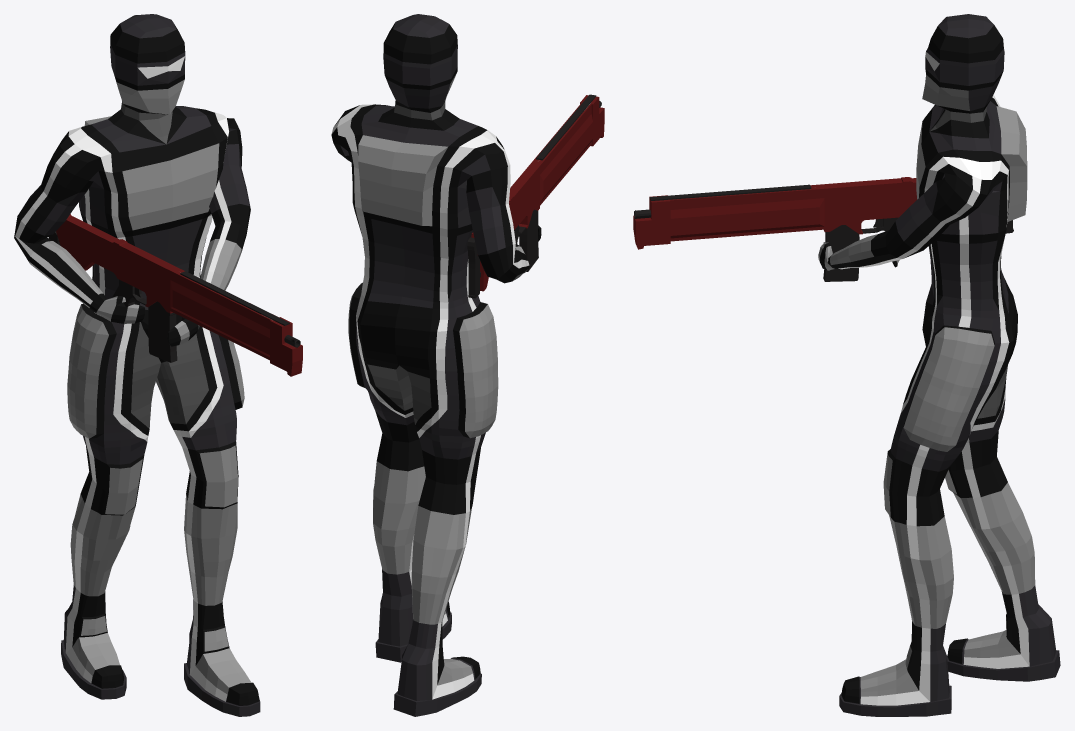
The model's file is MCI4.obj.
The picture shows the model from 3 angles, left to right: view 1: azimuth 30°, elevation 25°; view 2: azimuth 150°, elevation 25°; view 3: azimuth 270°, elevation 25°; orthographic projection.
Visible parts, largest first — view 1: metarig_object_metarig_mesh, Cube.001; view 2: metarig_object_metarig_mesh, Cube.001; view 3: metarig_object_metarig_mesh, Cube.001.
Boxes of the visible parts, bbox=[...] form: metarig_object_metarig_mesh: bbox=[14, 14, 260, 716]; Cube.001: bbox=[48, 214, 302, 376]; metarig_object_metarig_mesh: bbox=[331, 14, 541, 716]; Cube.001: bbox=[467, 94, 604, 298]; metarig_object_metarig_mesh: bbox=[818, 14, 1060, 716]; Cube.001: bbox=[633, 177, 1013, 281].
Size of the model in its own units: 0.5353 by 1.69 by 0.978.
2 materials, 2 textured.
